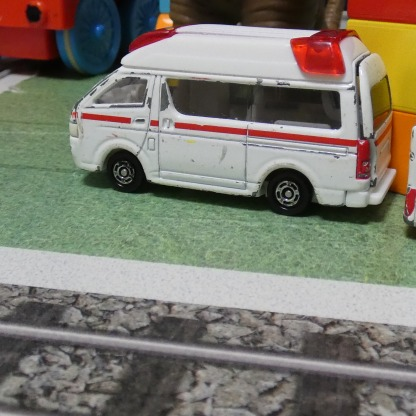car: (68, 21, 396, 214)
